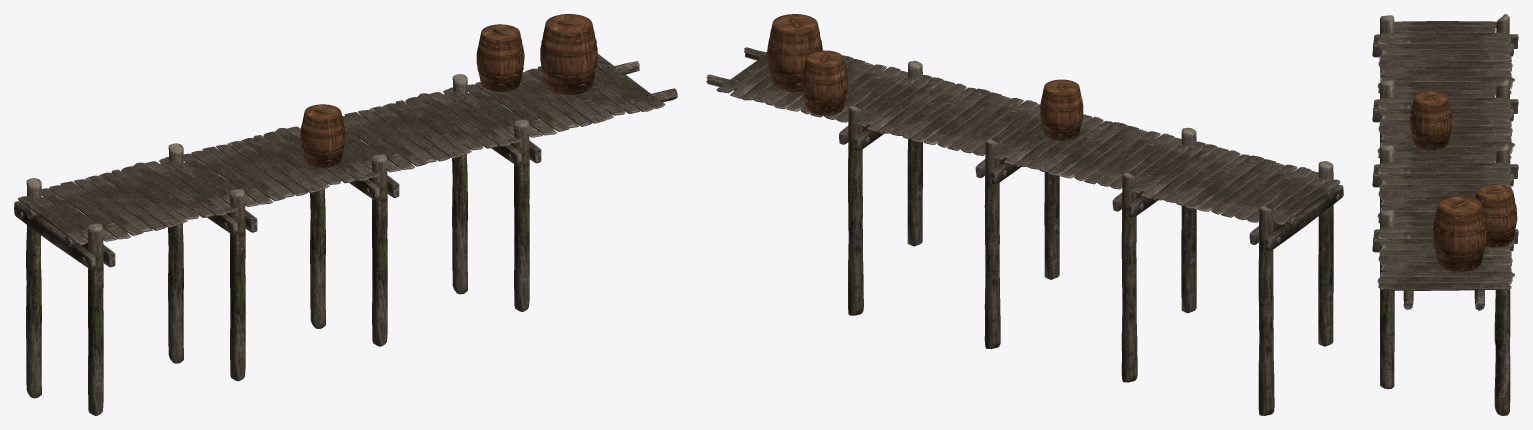
File: przystan-ladunkowa.glb
3 views of the same model, side by side, from view 1: azimuth 30°, elevation 25°; view 2: azimuth 150°, elevation 25°; view 3: azimuth 270°, elevation 25° (orthographic). The views are drawn at different scales.
Size of the model in its own units: 11.28 by 4.72 by 2.51.
3 materials, 3 textured.
